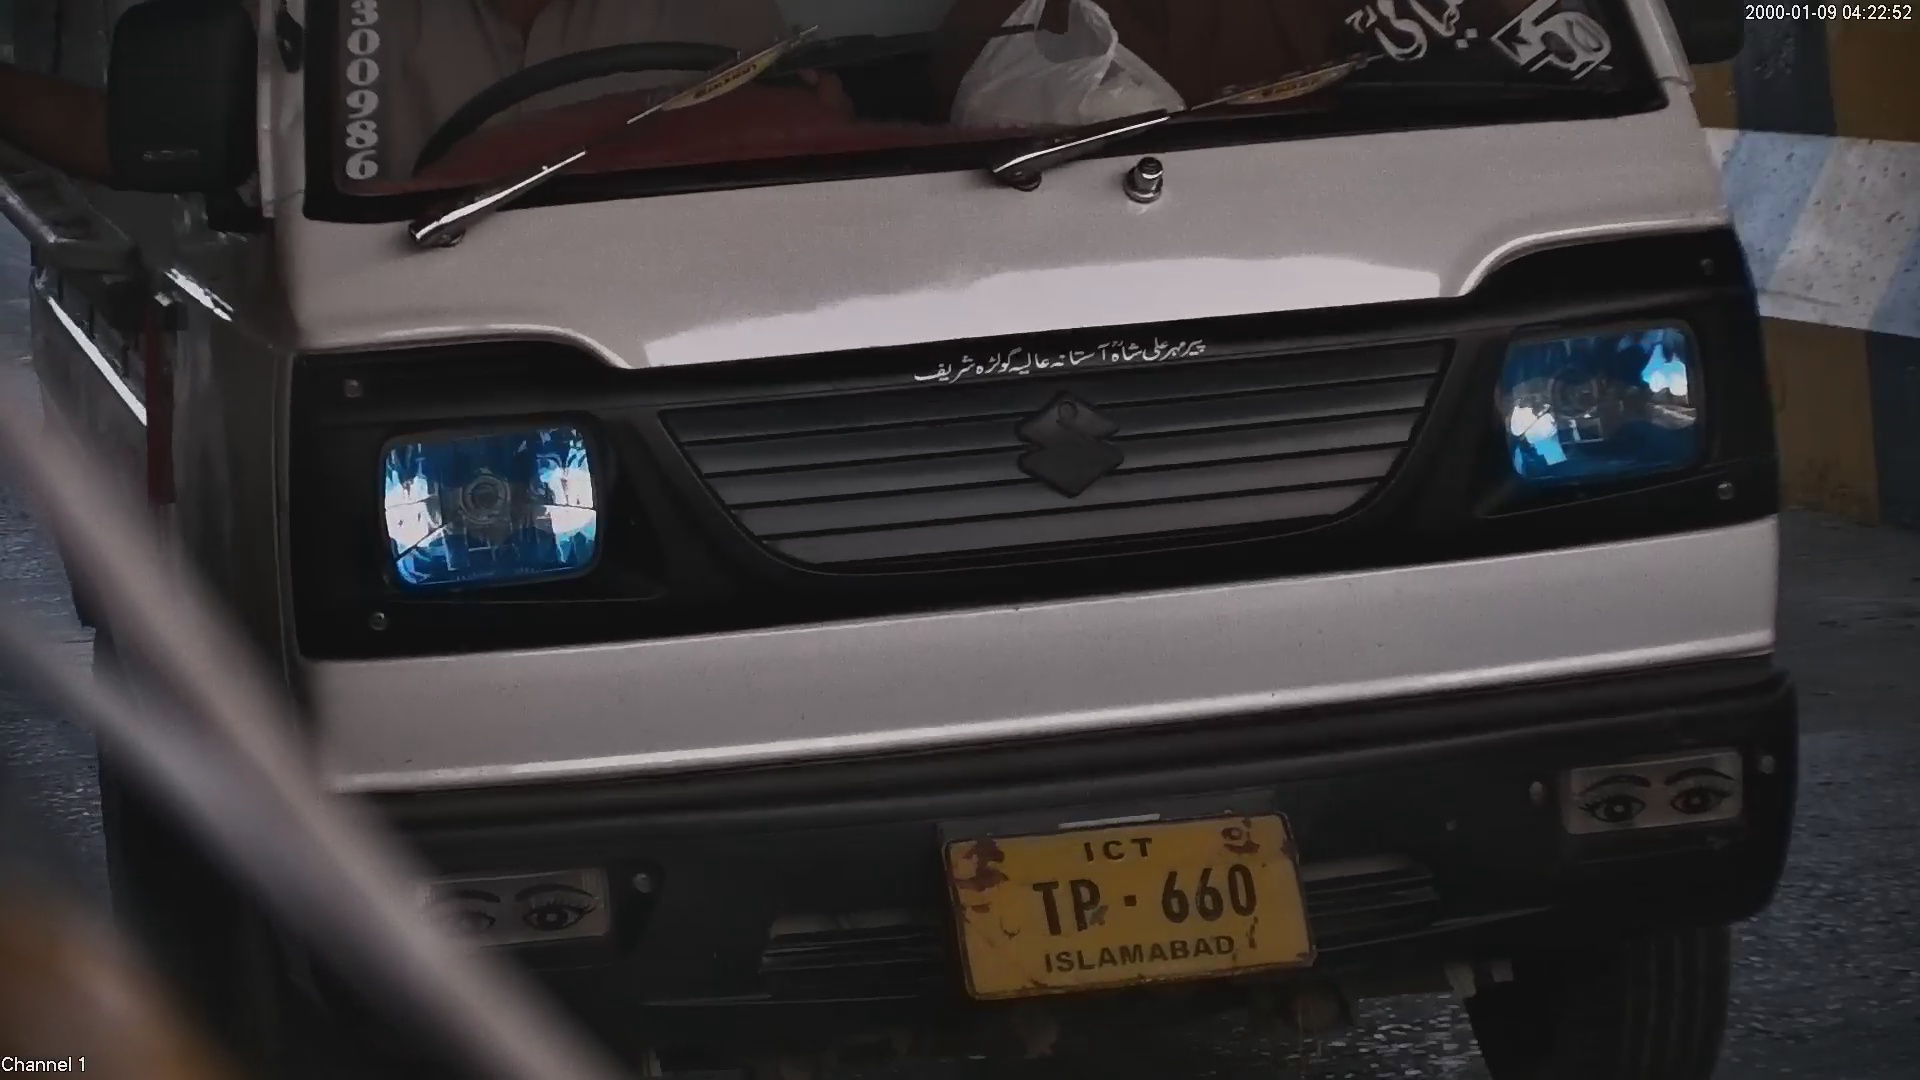Number_Plate: (917, 805, 1334, 1003)
Undefined: (1482, 294, 1719, 499), (356, 416, 615, 590), (891, 323, 1223, 381), (402, 857, 621, 942), (1560, 749, 1745, 836)
